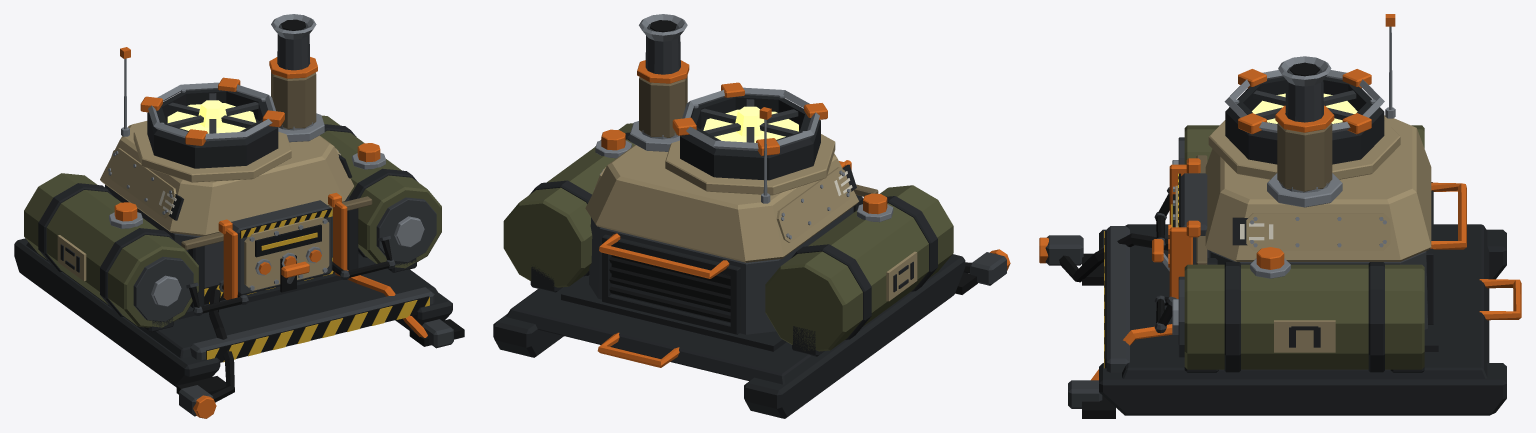
Rendered from generator.fbx.
The picture shows the model from 3 angles, left to right: view 1: azimuth 30°, elevation 25°; view 2: azimuth 150°, elevation 25°; view 3: azimuth 270°, elevation 25°; orthographic projection. The views are drawn at different scales.
Visible parts, largest first — view 1: Body, Switch, Core; view 2: Body, Core; view 3: Body, Switch, Core.
Boxes of the visible parts, <box> form: Body: <box>14,14,464,418</box>; Switch: <box>218,192,347,299</box>; Core: <box>167,100,256,133</box>; Body: <box>493,14,1010,418</box>; Core: <box>703,106,798,142</box>; Body: <box>1039,14,1521,418</box>; Switch: <box>1152,158,1209,298</box>; Core: <box>1252,93,1357,123</box>.
Size of the model in its own units: 6.45 by 5 by 7.03.
Materials: 3 (2 with a texture image).
